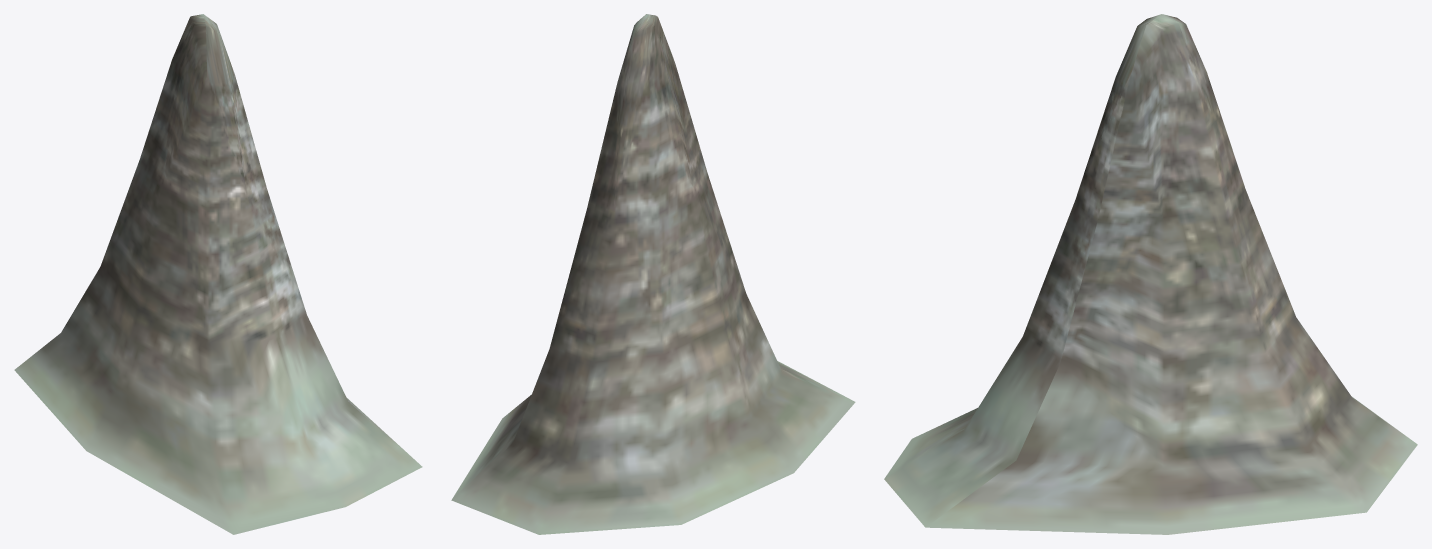
File: TROLLHOLE02_PS-MAINSTALAG01.fbx
The picture shows the model from 3 angles, left to right: view 1: azimuth 30°, elevation 25°; view 2: azimuth 150°, elevation 25°; view 3: azimuth 270°, elevation 25°; orthographic projection. The views are drawn at different scales.
Visible parts, largest first — view 1: TROLLHOLE02_PS-MAINSTALAG01; view 2: TROLLHOLE02_PS-MAINSTALAG01; view 3: TROLLHOLE02_PS-MAINSTALAG01.
Part boxes in pixels (x1,y1,x2,y2): TROLLHOLE02_PS-MAINSTALAG01: (14, 14, 422, 534); TROLLHOLE02_PS-MAINSTALAG01: (451, 14, 855, 534); TROLLHOLE02_PS-MAINSTALAG01: (884, 14, 1417, 534).
Bounding box in the file's own units: 15549 × 24304 × 25057.
Materials: 1 (1 with a texture image).
